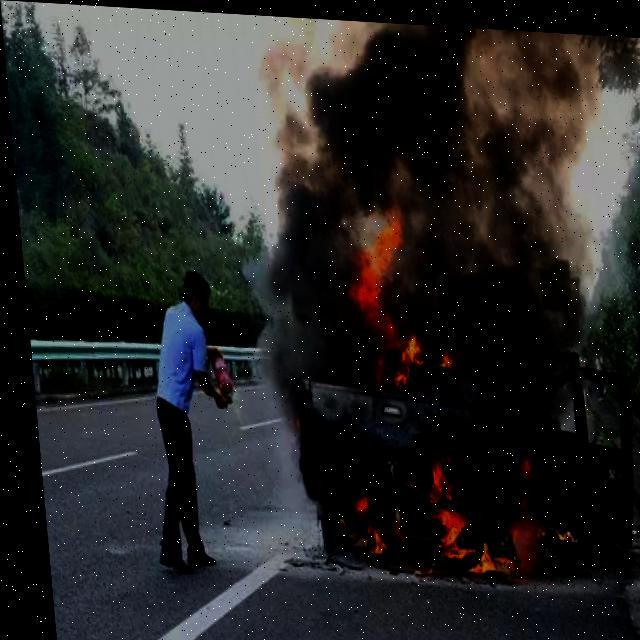Fire: (274, 201, 536, 577)
